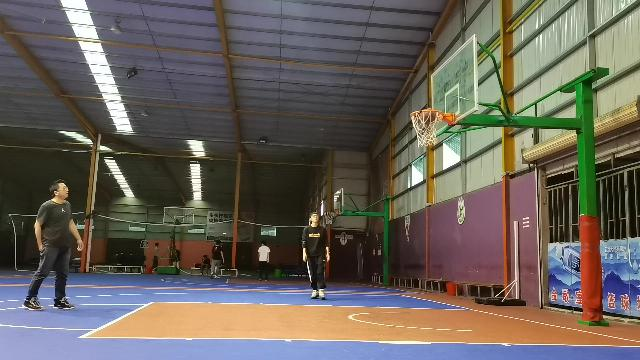basket: (410, 109, 444, 145), (324, 209, 336, 224)
goal: (417, 107, 439, 127)
